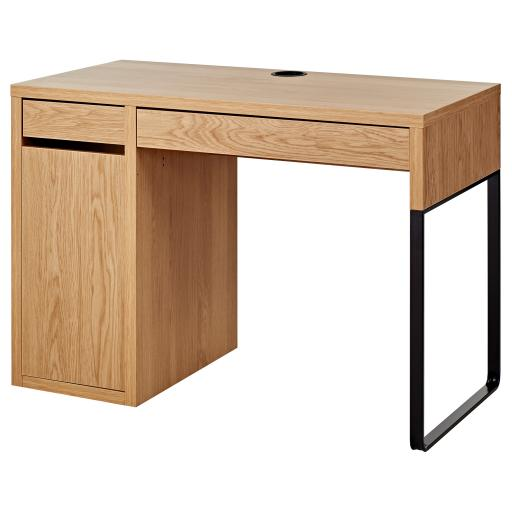desk: (10, 60, 501, 451)
